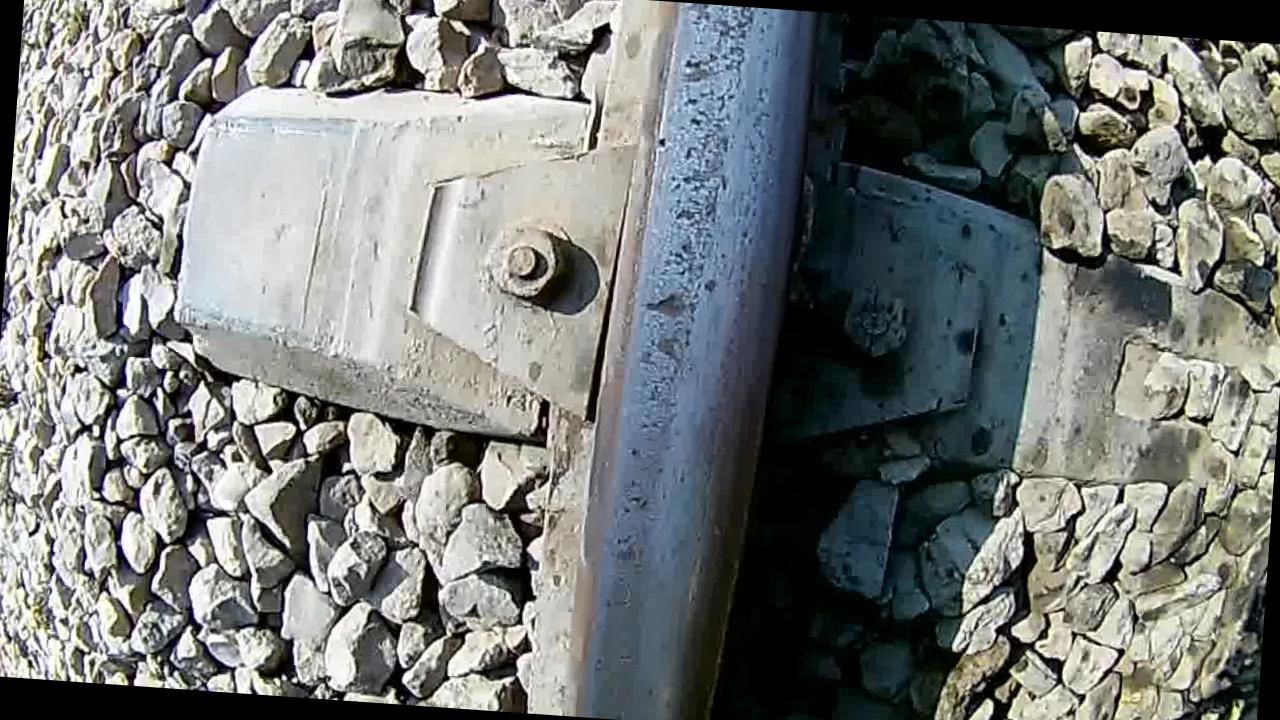crack: (585, 0, 816, 720)
